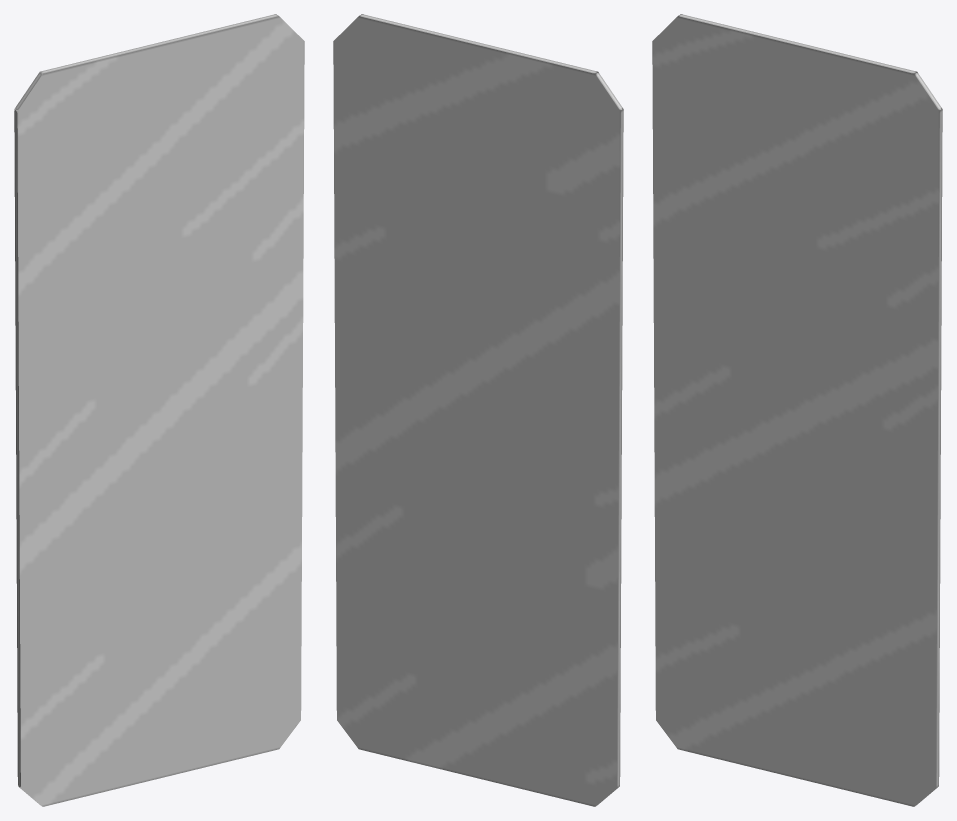
File: mirror.fbx
3 views of the same model, side by side, from view 1: azimuth 30°, elevation 25°; view 2: azimuth 150°, elevation 25°; view 3: azimuth 330°, elevation 25° (orthographic).
Visible parts, largest first — view 1: beveled_cuboid; view 2: beveled_cuboid; view 3: beveled_cuboid.
Boxes of the visible parts, x1,y1,x2,y2 form: beveled_cuboid: [14, 14, 304, 806]; beveled_cuboid: [333, 14, 623, 806]; beveled_cuboid: [652, 14, 942, 806].
Bounding box in the file's own units: 102 × 250 × 1.88.
Materials: 1 (1 with a texture image).
